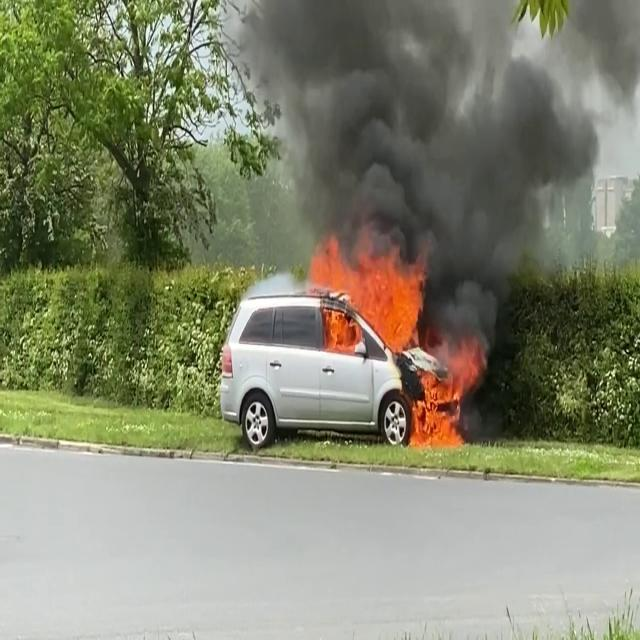Fire: (310, 236, 430, 354), (406, 336, 484, 452)
Smoke: (231, 1, 640, 254)
